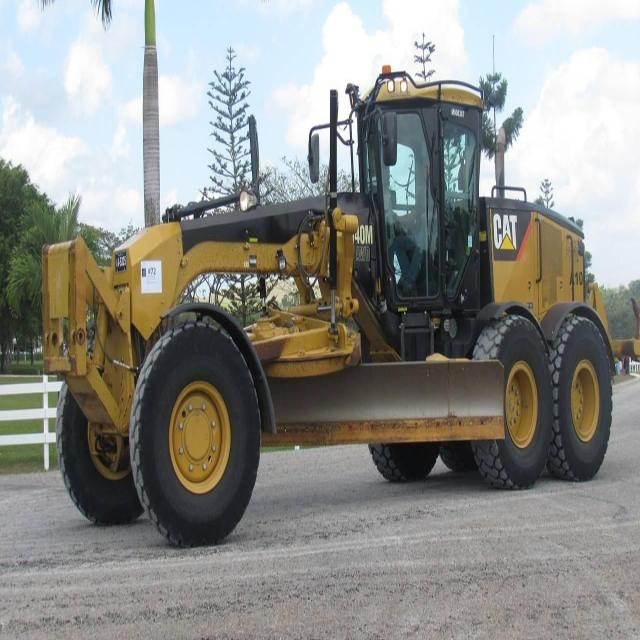buldozerpayloadergrader: (37, 44, 617, 534)
